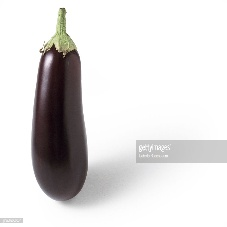eggplant: (34, 34, 88, 201)
